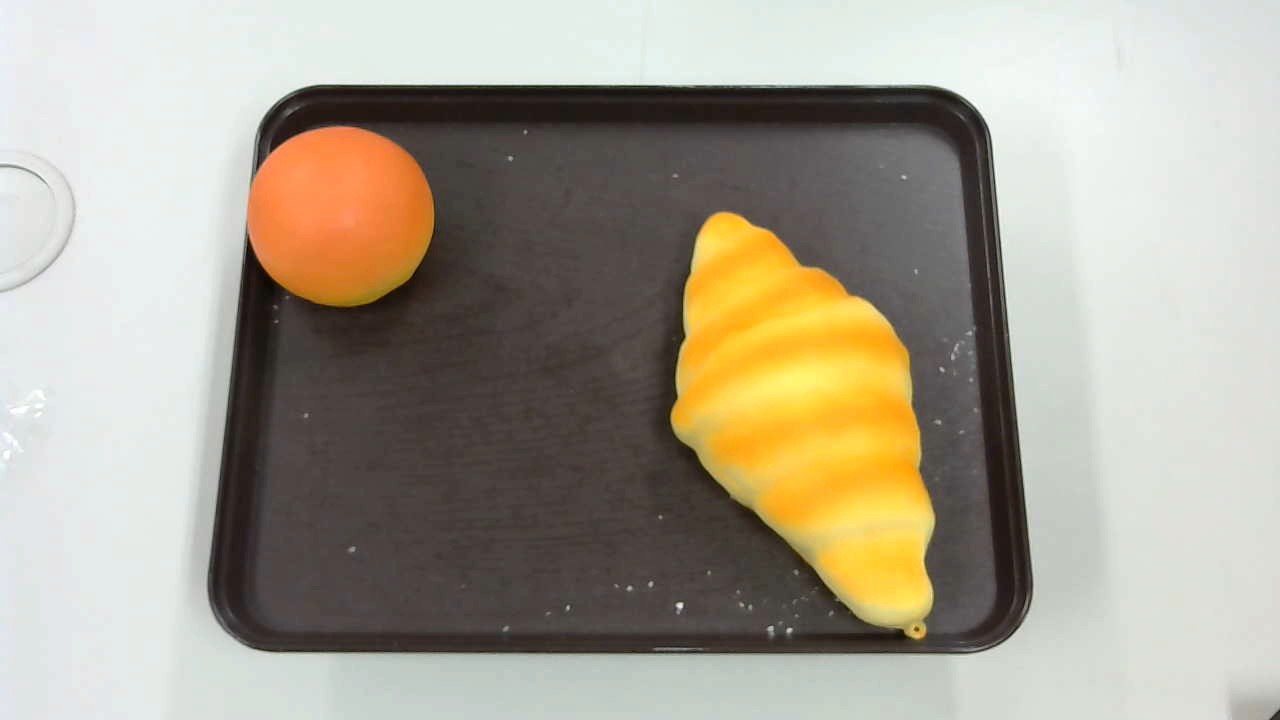bun: (248, 124, 434, 306)
croissant: (670, 211, 936, 642)
